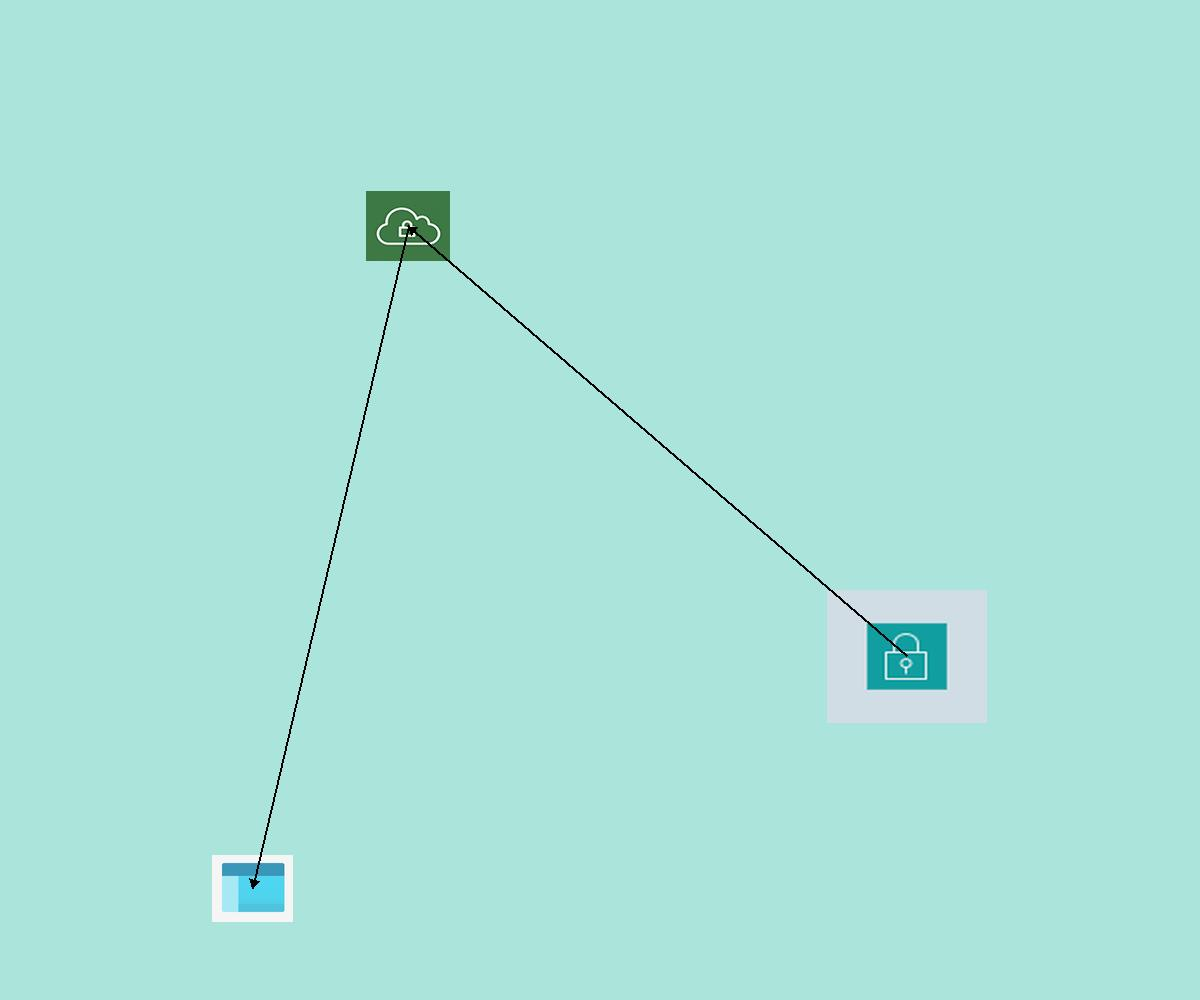AWS-Private-subnet: (827, 590, 987, 723)
AWS-Private_vpc: (366, 191, 450, 261)
Azure_management-portal: (212, 855, 293, 922)
